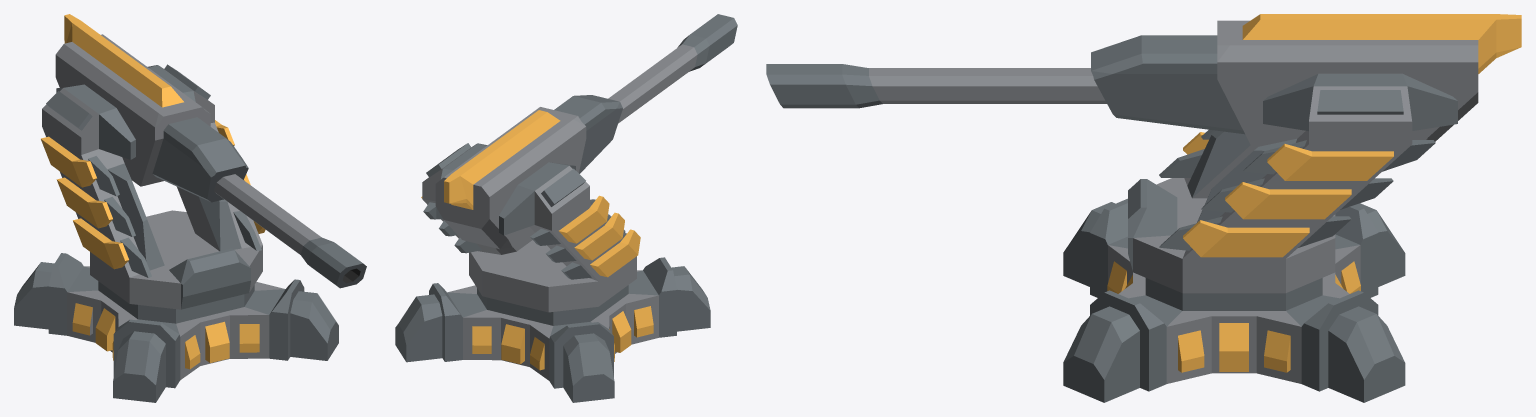
Rendered from Large Single Cannon Turret.fbx.
The picture shows the model from 3 angles, left to right: view 1: azimuth 30°, elevation 25°; view 2: azimuth 150°, elevation 25°; view 3: azimuth 270°, elevation 25°; orthographic projection. The views are drawn at different scales.
Visible parts, largest first — view 1: Turret.004, Base, Turrethead, CannonConnector, Cannon; view 2: Base, Turret.004, Turrethead, Cannon, CannonConnector; view 3: Turret.004, Base, Turrethead, Cannon, CannonConnector.
Boxes of the visible parts, x1=… form: Turret.004: x1=41, y1=64, x2=265, y2=309; Base: x1=14, y1=253, x2=338, y2=402; Turrethead: x1=55, y1=14, x2=210, y2=186; CannonConnector: x1=152, y1=117, x2=248, y2=202; Cannon: x1=214, y1=174, x2=366, y2=288; Base: x1=395, y1=257, x2=710, y2=402; Turret.004: x1=421, y1=143, x2=640, y2=312; Turrethead: x1=435, y1=107, x2=586, y2=249; Cannon: x1=608, y1=14, x2=737, y2=123; CannonConnector: x1=554, y1=95, x2=622, y2=173; Turret.004: x1=1128, y1=73, x2=1457, y2=293; Base: x1=1063, y1=198, x2=1405, y2=402; Turrethead: x1=1217, y1=14, x2=1521, y2=150; Cannon: x1=766, y1=64, x2=1106, y2=108; CannonConnector: x1=1091, y1=35, x2=1244, y2=134.
Size of the model in its own units: 135 by 137 by 299.
